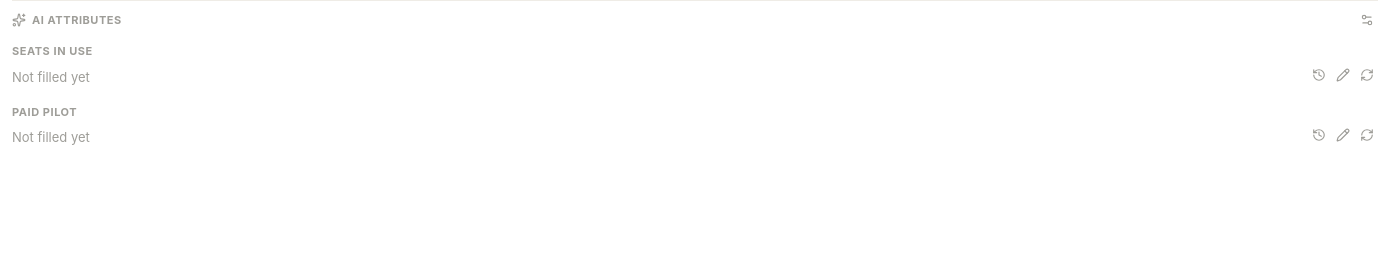
Test: AIAttributesPanel › converts number and yes/no overrides before sending them
Expected: the text "Seats in use" is shown, left=12, top=44, right=93, bottom=58
Click the button named "Edit Seats in use". click: (1343, 74)
box: left=1332, top=64, right=1354, bottom=86
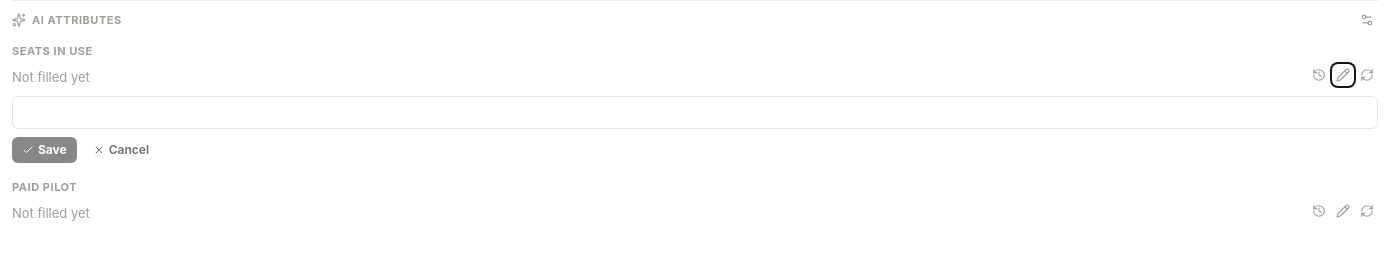
Type "120" into the number field named "Seats in use". click: (695, 112)
box: left=12, top=96, right=1378, bottom=129
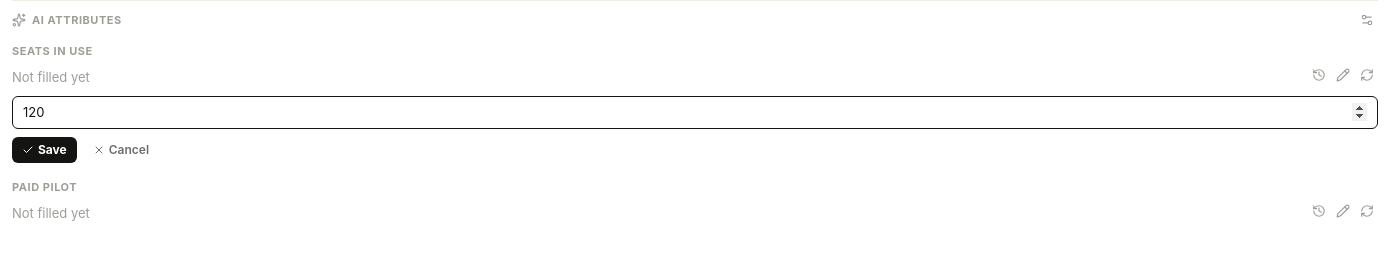
Click the button "Save". click: (44, 150)
box: left=12, top=137, right=77, bottom=163
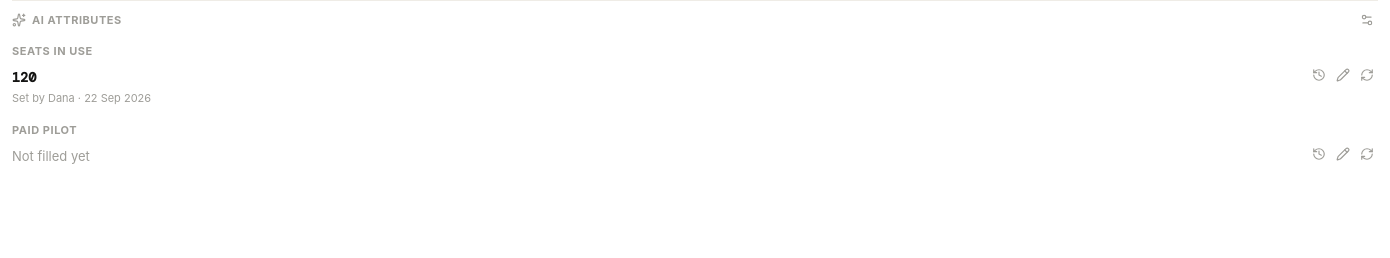
Expected: the text "120" is shown, left=12, top=68, right=36, bottom=86
Click the button named "Edit Paid pilot". click: (1343, 154)
box: left=1332, top=143, right=1354, bottom=165
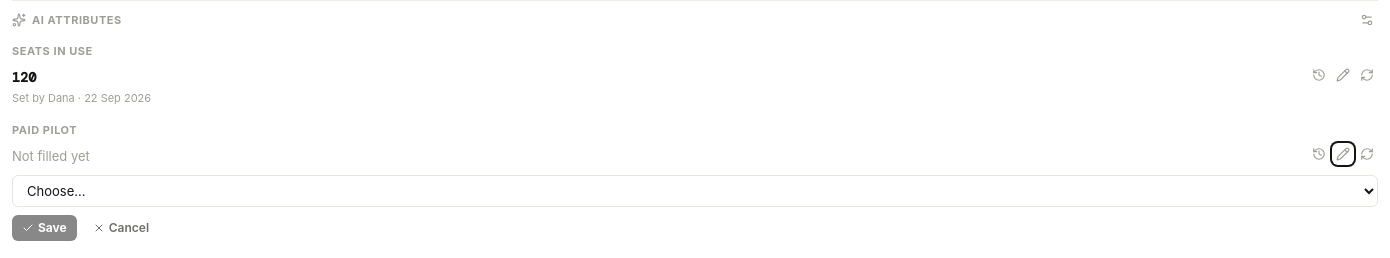
Select "Yes" in the dropdown named "Paid pilot". click: (695, 191)
box: left=12, top=175, right=1378, bottom=207
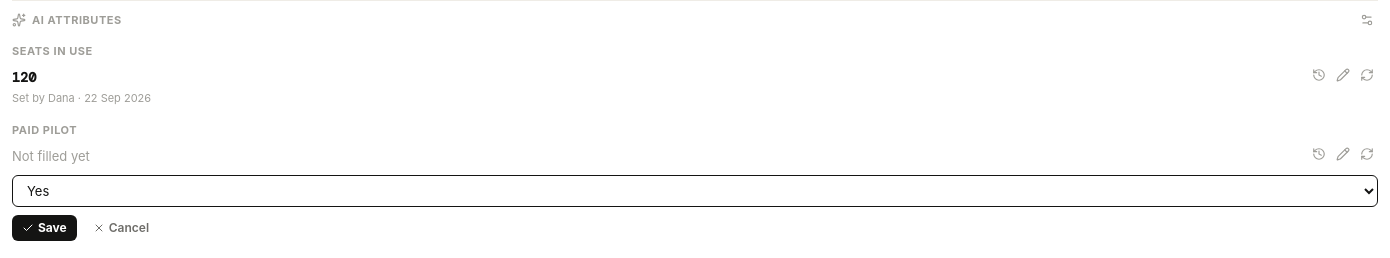
Click the button "Save". click: (44, 228)
box: left=12, top=215, right=77, bottom=241
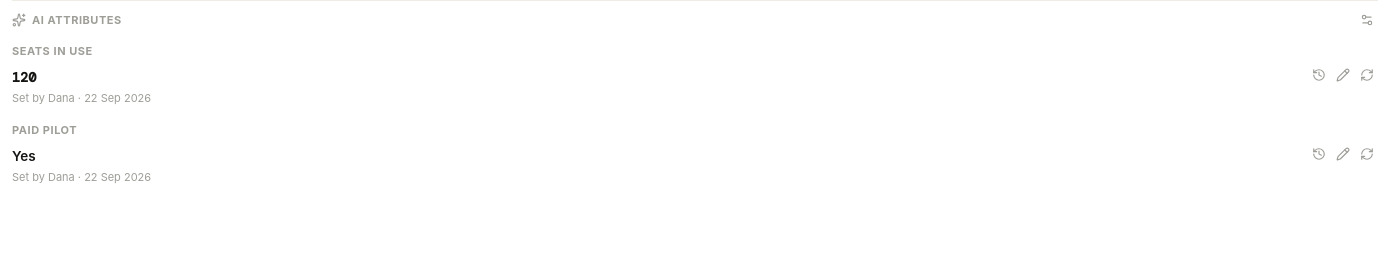
Expected: the text "Yes" is shown, left=12, top=148, right=36, bottom=164
